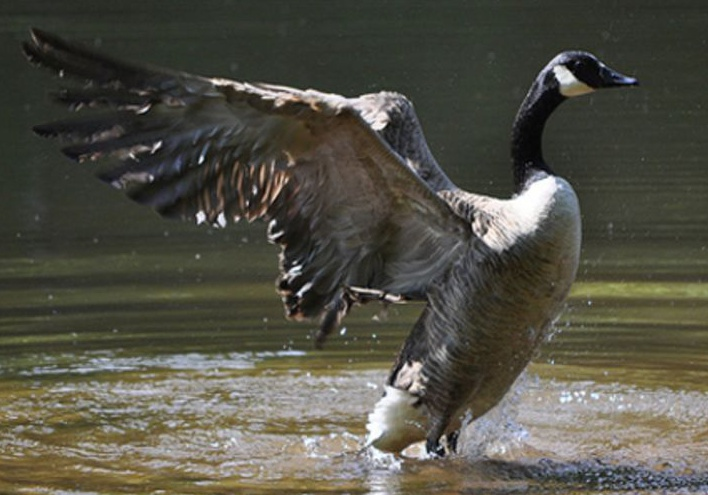goose: (16, 16, 674, 465)
